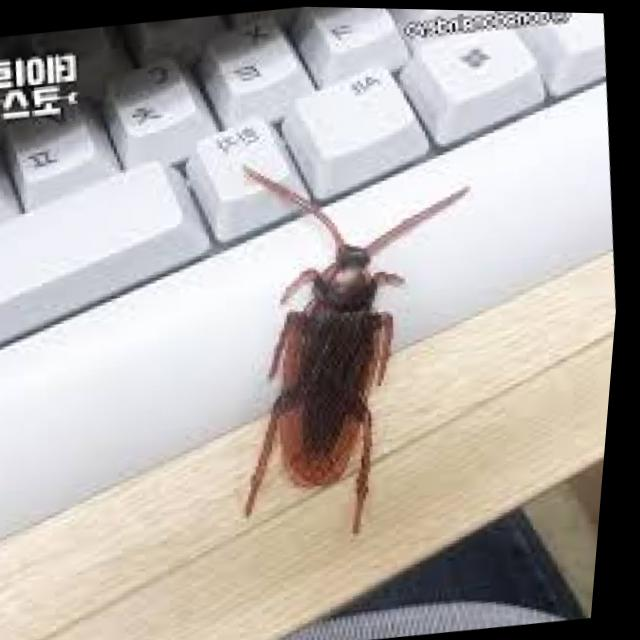Cockroach: (137, 117, 548, 603)
